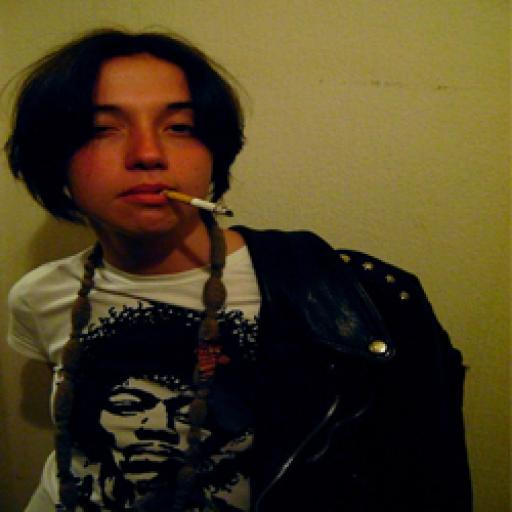terdeteksi merokok: (115, 93, 245, 254)
